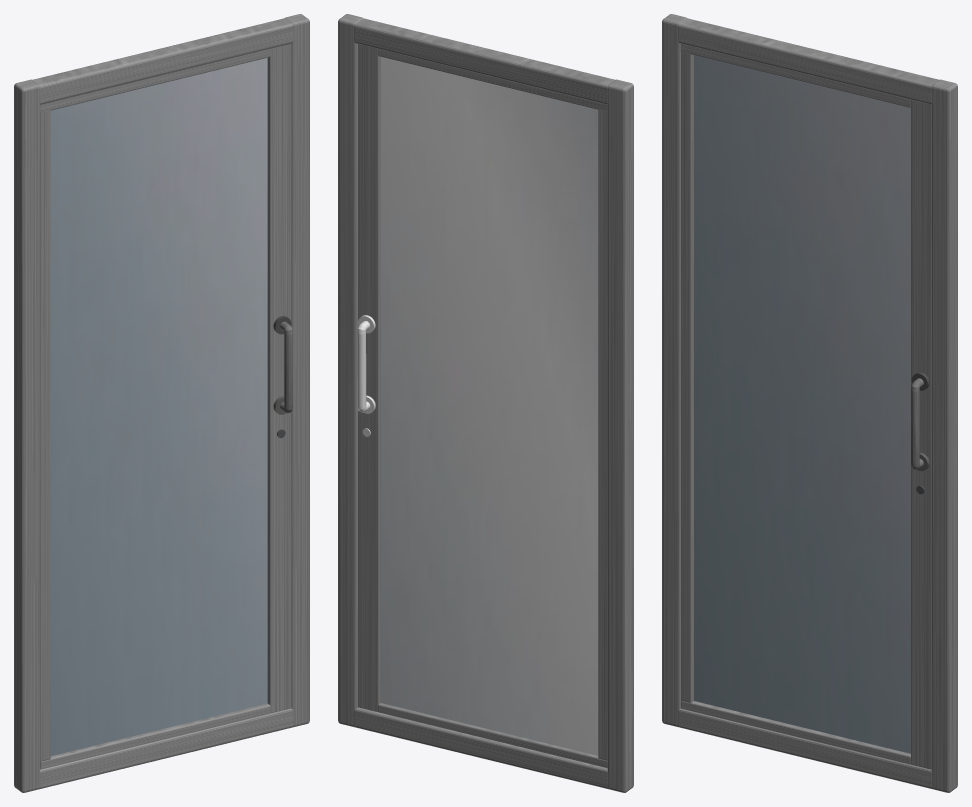
The model's file is Door.fbx.
3 renders of one model, left to right at view 1: azimuth 30°, elevation 25°; view 2: azimuth 150°, elevation 25°; view 3: azimuth 330°, elevation 25°, orthographic.
Visible parts, largest first — view 1: Glass, Frame_Left, Inner_Frame_Right, Frame_Right, Inner_Frame_Left, Frame_Bottom.001, Frame_Bottom, Inner_Frame_Bottom, Inner_Frame_Bottom.001, Door_Lock; view 2: Glass, Frame_Left, Inner_Frame_Right, Frame_Right, Frame_Bottom.001, Inner_Frame_Left, Frame_Bottom, Inner_Frame_Bottom, Inner_Frame_Bottom.001, Door_Lock.003; view 3: Glass, Frame_Right, Frame_Left, Inner_Frame_Right, Inner_Frame_Left, Frame_Bottom.001, Frame_Bottom, Inner_Frame_Bottom, Inner_Frame_Bottom.001, Door_Lock.
Part boxes in pixels (bbox=[...]): Glass: bbox=[50, 57, 267, 756]; Frame_Left: bbox=[14, 79, 40, 792]; Inner_Frame_Right: bbox=[267, 43, 291, 713]; Frame_Right: bbox=[284, 14, 309, 727]; Inner_Frame_Left: bbox=[40, 110, 50, 761]; Frame_Bottom.001: bbox=[32, 18, 293, 104]; Frame_Bottom: bbox=[39, 708, 293, 789]; Inner_Frame_Bottom: bbox=[40, 703, 270, 769]; Inner_Frame_Bottom.001: bbox=[40, 48, 270, 112]; Door_Lock: bbox=[280, 321, 292, 413]; Glass: bbox=[381, 57, 598, 755]; Frame_Left: bbox=[607, 79, 633, 792]; Inner_Frame_Right: bbox=[358, 44, 380, 711]; Frame_Right: bbox=[338, 14, 363, 727]; Frame_Bottom.001: bbox=[354, 18, 615, 104]; Inner_Frame_Left: bbox=[598, 109, 607, 760]; Frame_Bottom: bbox=[354, 707, 608, 789]; Inner_Frame_Bottom: bbox=[378, 703, 607, 767]; Inner_Frame_Bottom.001: bbox=[378, 49, 607, 111]; Door_Lock.003: bbox=[357, 321, 370, 412]; Glass: bbox=[694, 55, 910, 753]; Frame_Right: bbox=[931, 79, 957, 792]; Frame_Left: bbox=[662, 14, 687, 727]; Inner_Frame_Right: bbox=[911, 100, 931, 769]; Inner_Frame_Left: bbox=[681, 51, 693, 702]; Frame_Bottom.001: bbox=[678, 18, 939, 104]; Frame_Bottom: bbox=[678, 708, 932, 789]; Inner_Frame_Bottom: bbox=[681, 700, 910, 764]; Inner_Frame_Bottom.001: bbox=[680, 43, 910, 107]; Door_Lock: bbox=[911, 378, 923, 469].
Size of the model in its own units: 90 by 210 by 13.17.
Materials: 13 (10 with a texture image).
